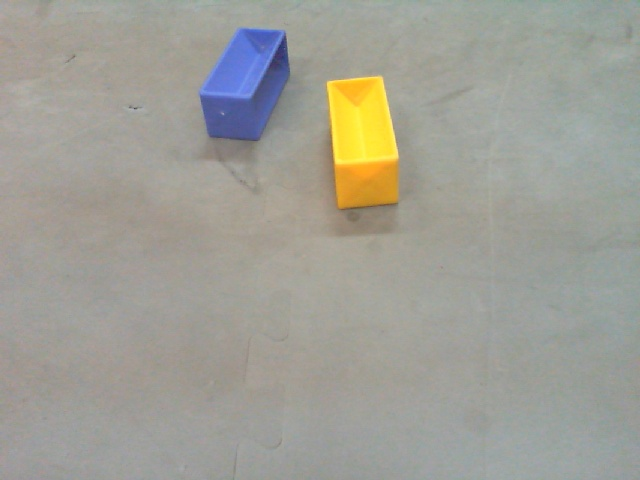BlueSample: (197, 28, 291, 142)
YellowSample: (324, 75, 401, 209)
